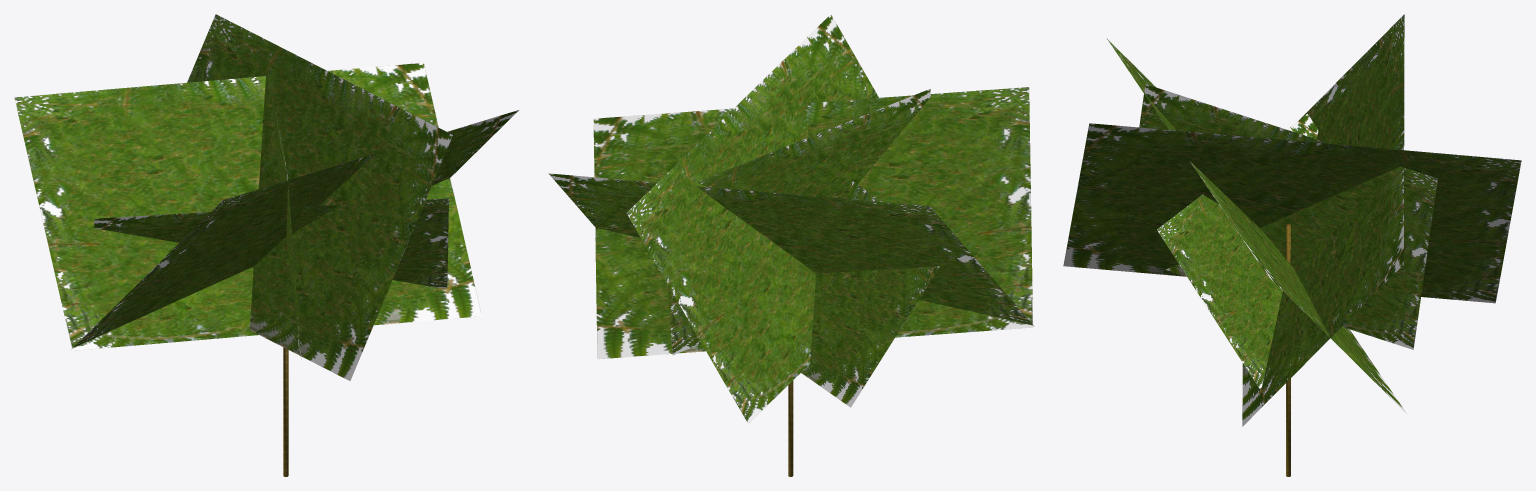
File: JungleTree.gltf
The picture shows the model from 3 angles, left to right: view 1: azimuth 30°, elevation 25°; view 2: azimuth 150°, elevation 25°; view 3: azimuth 270°, elevation 25°; orthographic projection. The views are drawn at different scales.
Parts seen in each view (by area): view 1: JungleTreeLeaves, JungleTree; view 2: JungleTreeLeaves, JungleTree; view 3: JungleTreeLeaves, JungleTree.
Part boxes in pixels (x1,y1,x2,y2): JungleTreeLeaves: (14,14,518,380); JungleTree: (283,347,288,476); JungleTreeLeaves: (548,14,1034,423); JungleTree: (788,380,793,476); JungleTreeLeaves: (1063,14,1521,426); JungleTree: (1286,223,1290,476).
Bounding box in the file's own units: 40.99 × 34.31 × 37.35.
2 materials, 2 textured.
